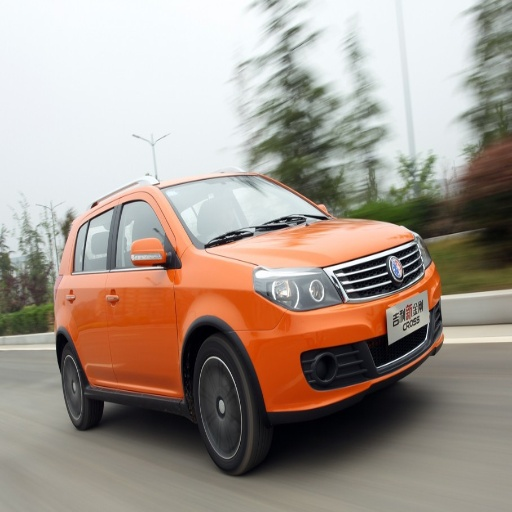front_bumper: (243, 244, 440, 422)
front_right_door: (108, 191, 175, 393)
front_right_light: (254, 269, 345, 310)
